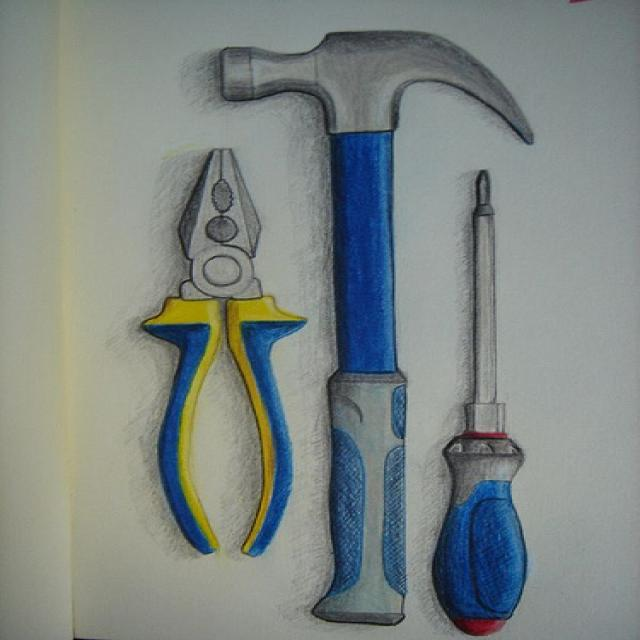hammer: (207, 23, 540, 622)
pliers: (132, 140, 313, 562)
screwdriver: (422, 160, 537, 640)
